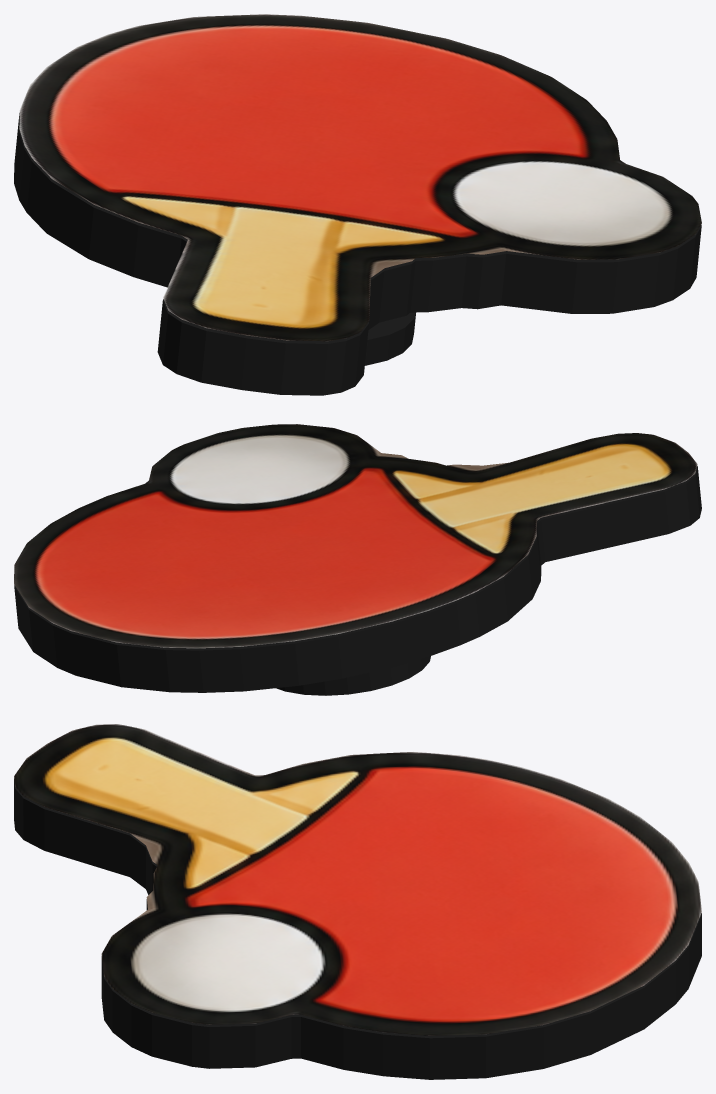
Rendered from sports-table-tennis.glb.
3 views of the same model, one above another, from view 1: azimuth 30°, elevation 25°; view 2: azimuth 150°, elevation 25°; view 3: azimuth 270°, elevation 25° (orthographic). The views are drawn at different scales.
Visible parts, largest first — view 1: SPORTS_Table_Tennis_MODEL; view 2: SPORTS_Table_Tennis_MODEL; view 3: SPORTS_Table_Tennis_MODEL.
Boxes of the visible parts, <box> form: SPORTS_Table_Tennis_MODEL: <box>14,14,701,395</box>; SPORTS_Table_Tennis_MODEL: <box>14,424,701,695</box>; SPORTS_Table_Tennis_MODEL: <box>14,724,701,1079</box>.
Size of the model in its own units: 0.3176 by 0.0991 by 0.3604.
3 materials, 1 textured.
